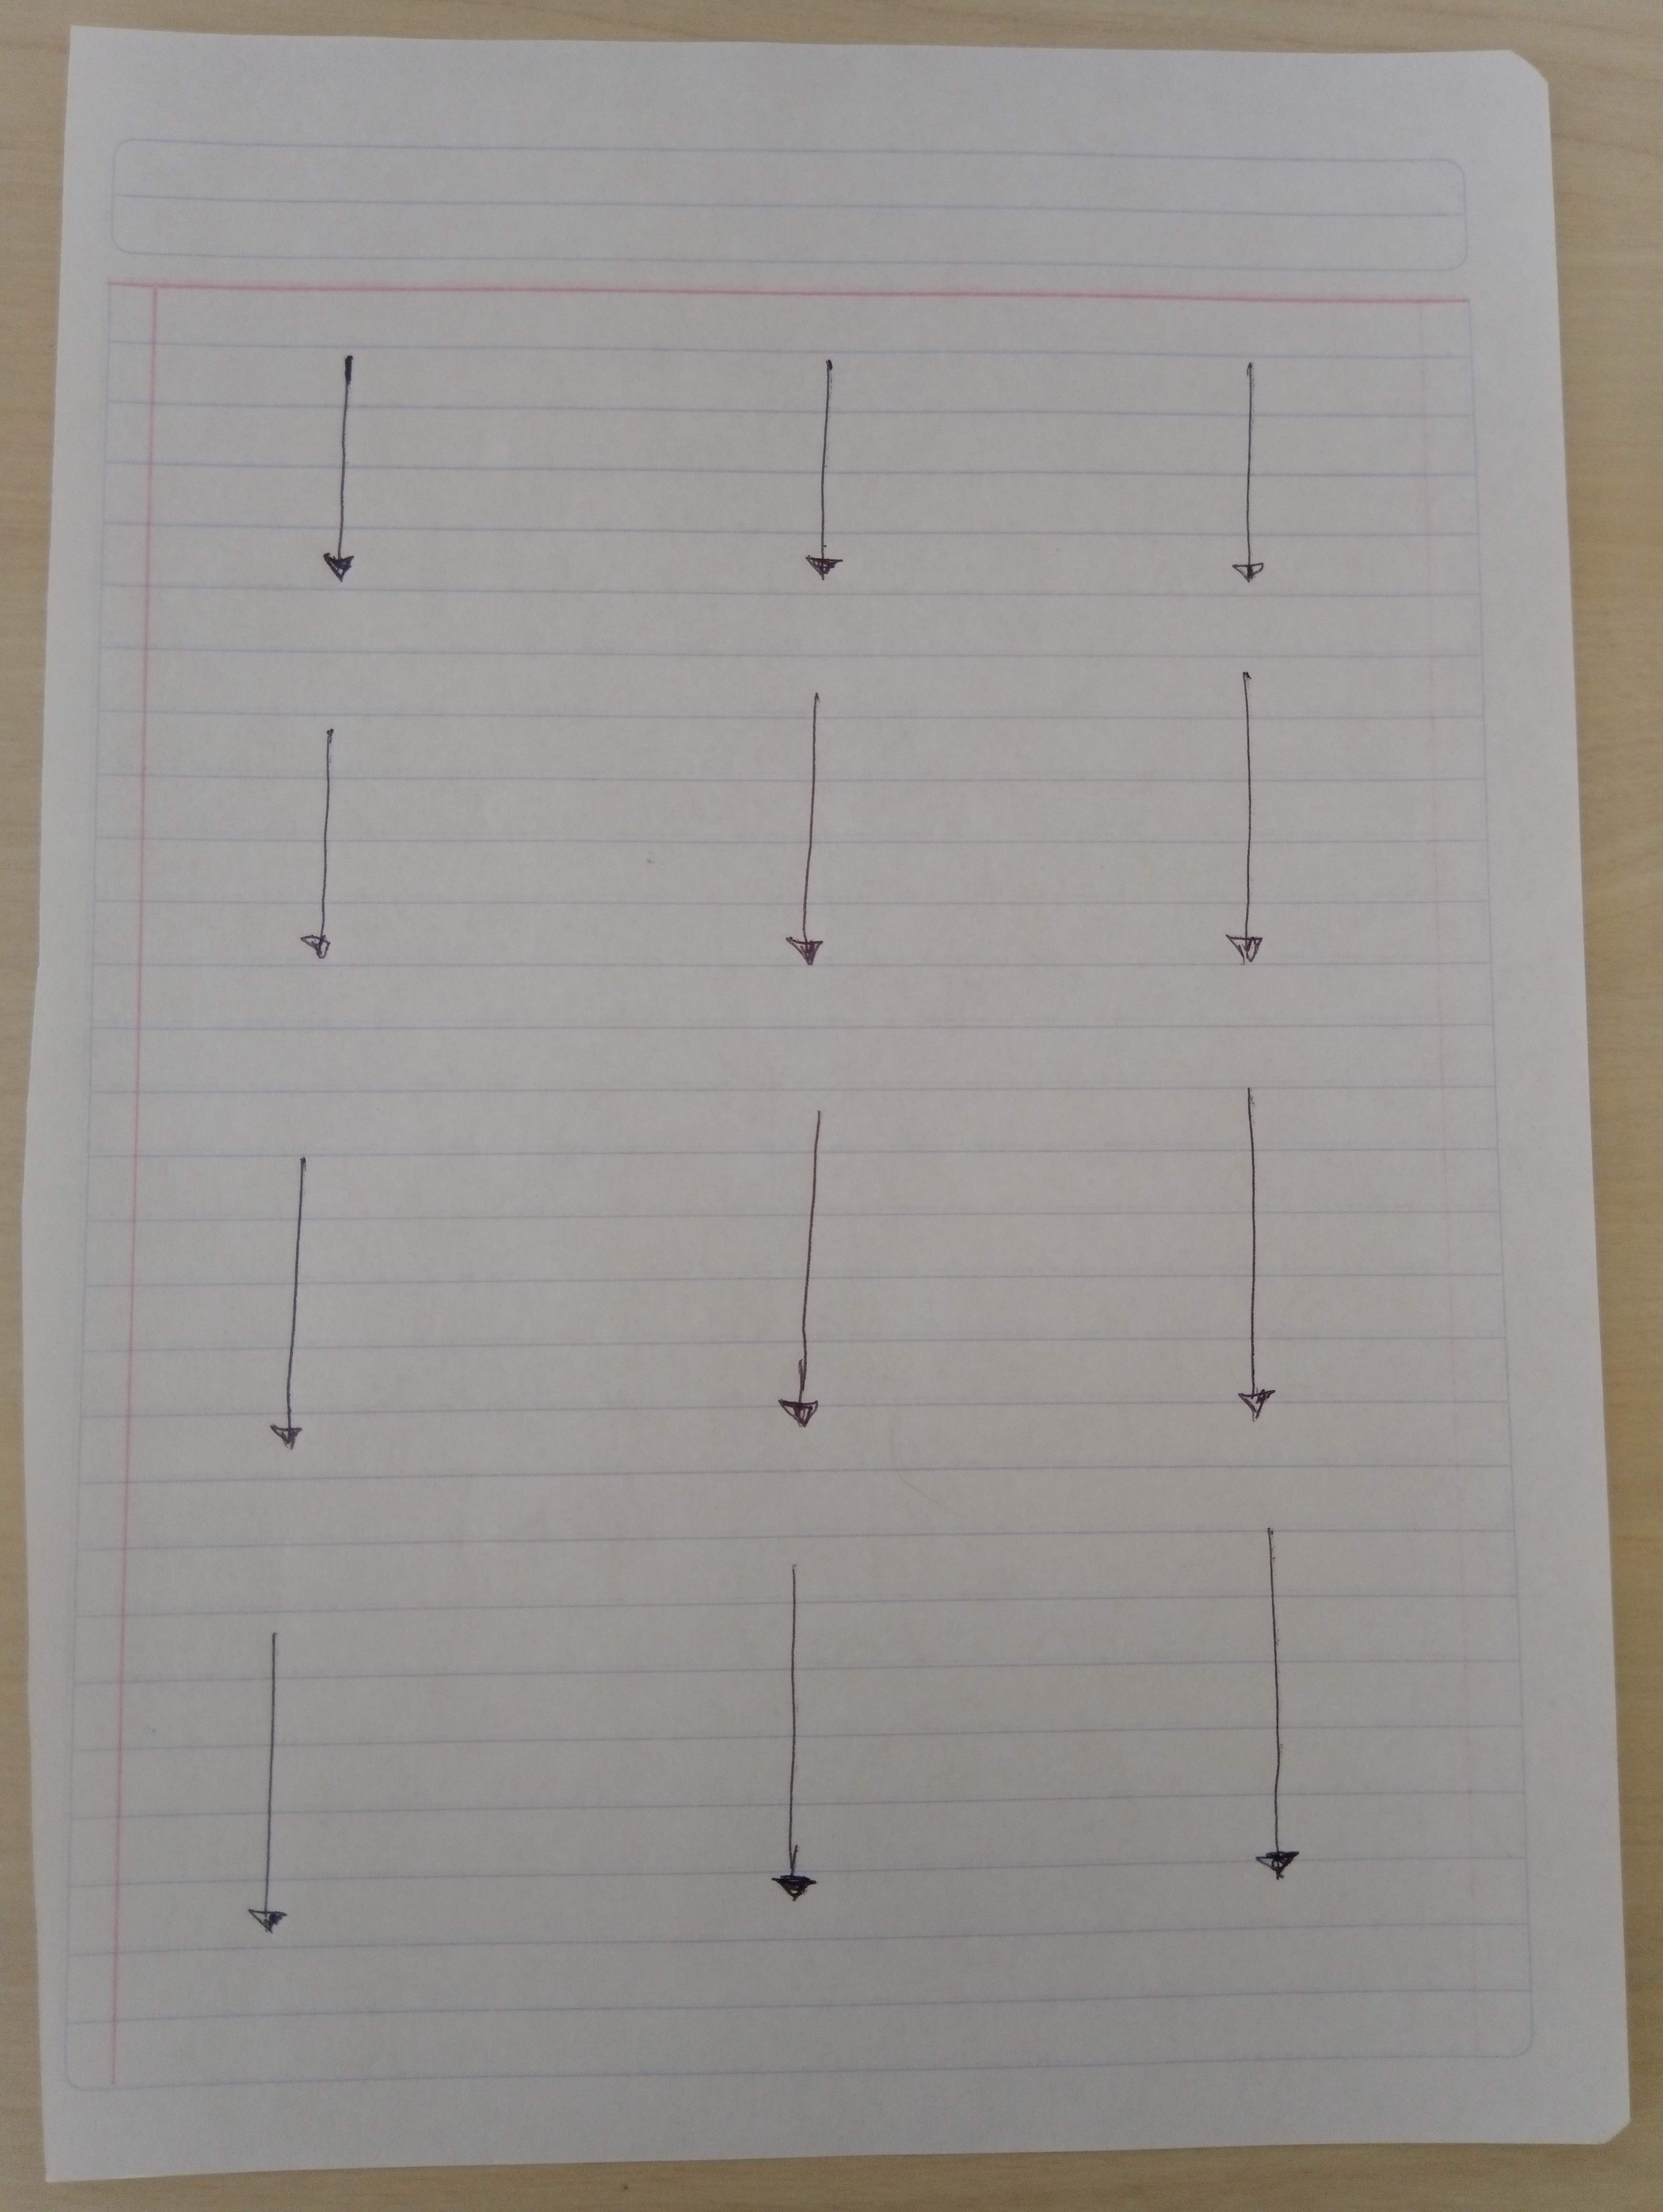arrow_line_down: (1237, 1524, 1333, 1905), (227, 1151, 339, 1458), (1225, 1061, 1310, 1428), (767, 1117, 847, 1447), (774, 1571, 847, 1920), (1200, 658, 1284, 964), (1204, 351, 1296, 608), (239, 1638, 309, 1964), (283, 725, 370, 985), (300, 347, 393, 588), (774, 691, 847, 974), (811, 347, 863, 611)
